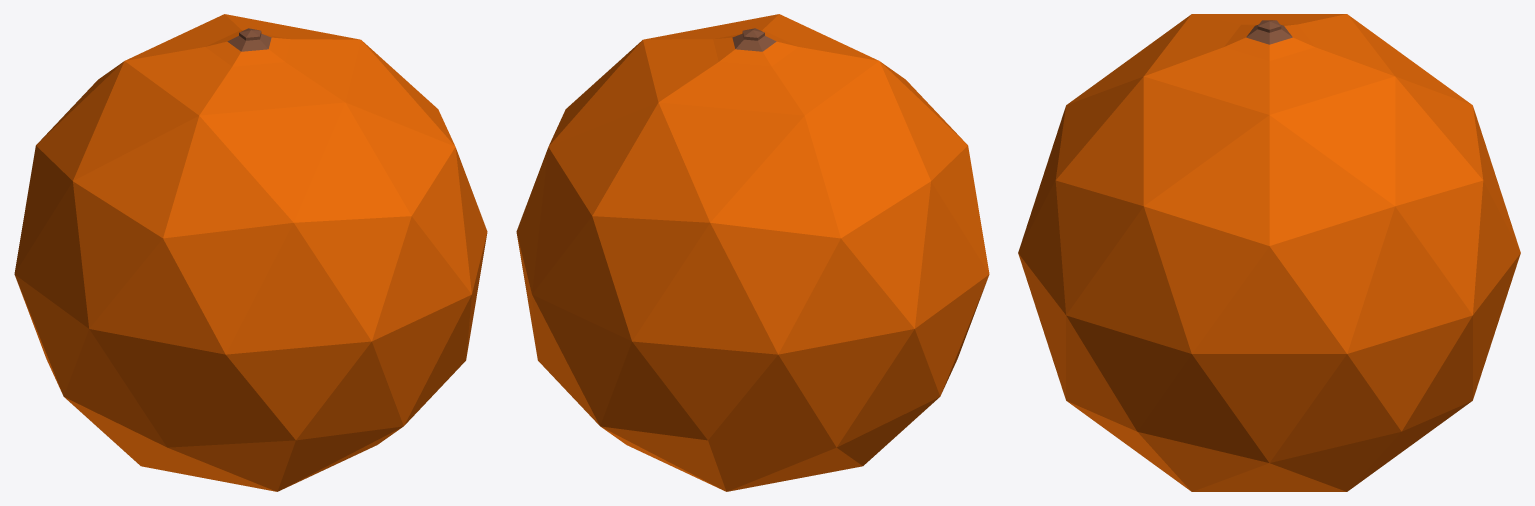
File: orenji.fbx
3 renders of one model, left to right at view 1: azimuth 30°, elevation 25°; view 2: azimuth 150°, elevation 25°; view 3: azimuth 270°, elevation 25°, orthographic. The views are drawn at different scales.
Visible parts, largest first — view 1: Icosphere; view 2: Icosphere; view 3: Icosphere.
Part boxes in pixels (<box>): Icosphere: <box>14,14,487,491</box>; Icosphere: <box>516,14,989,491</box>; Icosphere: <box>1018,14,1520,491</box>.
Size of the model in its own units: 190 by 202 by 200.
